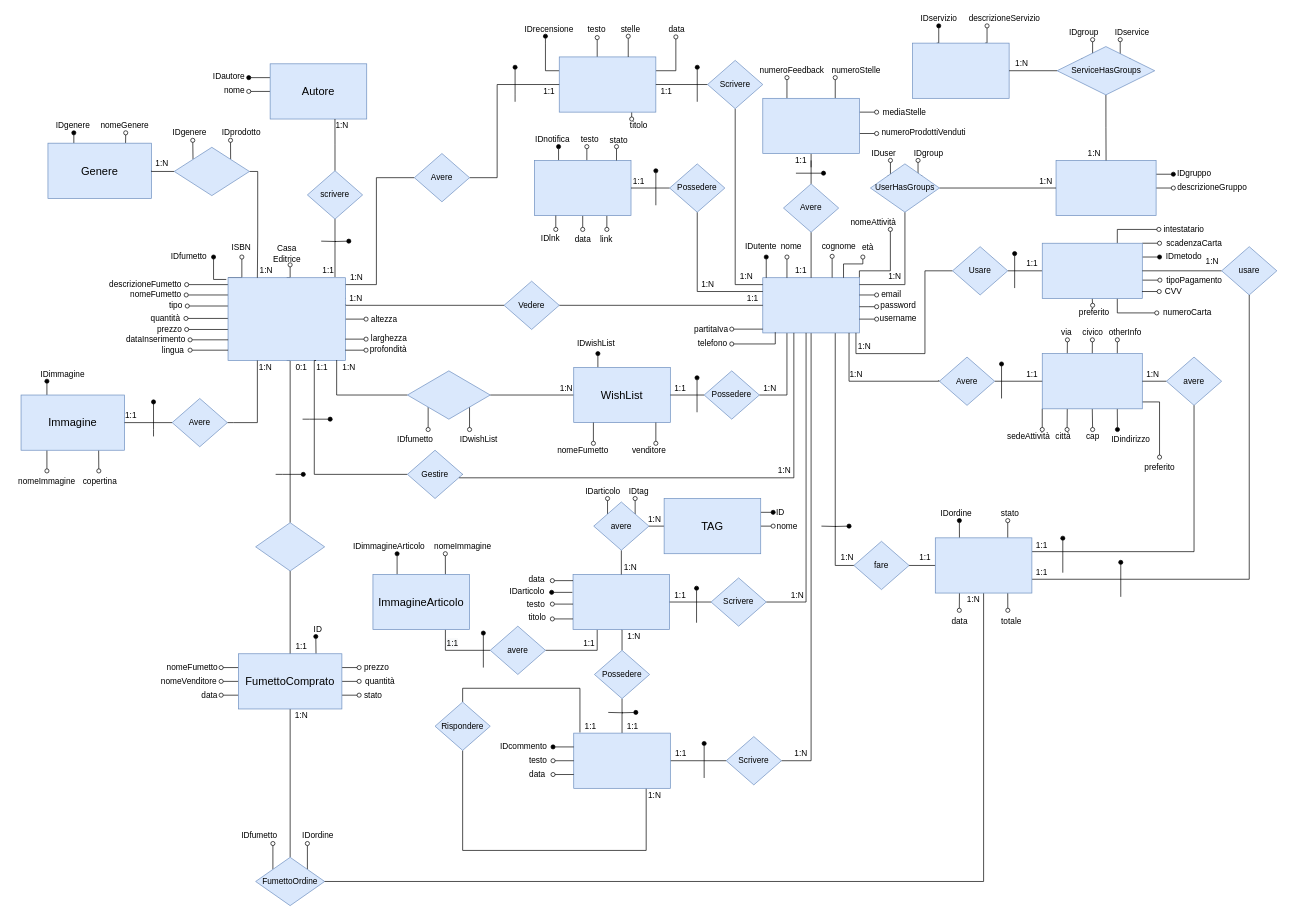
This 1289x918 diagram has some shape labels left out. The shapes that lost their labels are listed below. From the top down, each one's box as (x1, y1, x2, y2) in pixels, then its label:
(559, 56, 656, 112): Recensione
(912, 42, 1009, 98): Servizio
(762, 98, 859, 154): Ranking
(174, 147, 249, 196): FumettoGenere
(534, 160, 631, 216): Notifica
(1055, 160, 1156, 216): Gruppo
(1042, 243, 1142, 298): MetodoPagamento
(227, 277, 345, 361): Fumetto
(762, 277, 859, 333): User
(407, 370, 490, 419): FumettoWishList
(1042, 353, 1142, 409): IndirizzoSpedizione
(255, 522, 325, 571): essere
(935, 537, 1032, 593): Ordine
(572, 574, 670, 630): ArticoloBlog
(573, 732, 670, 788): Commento
